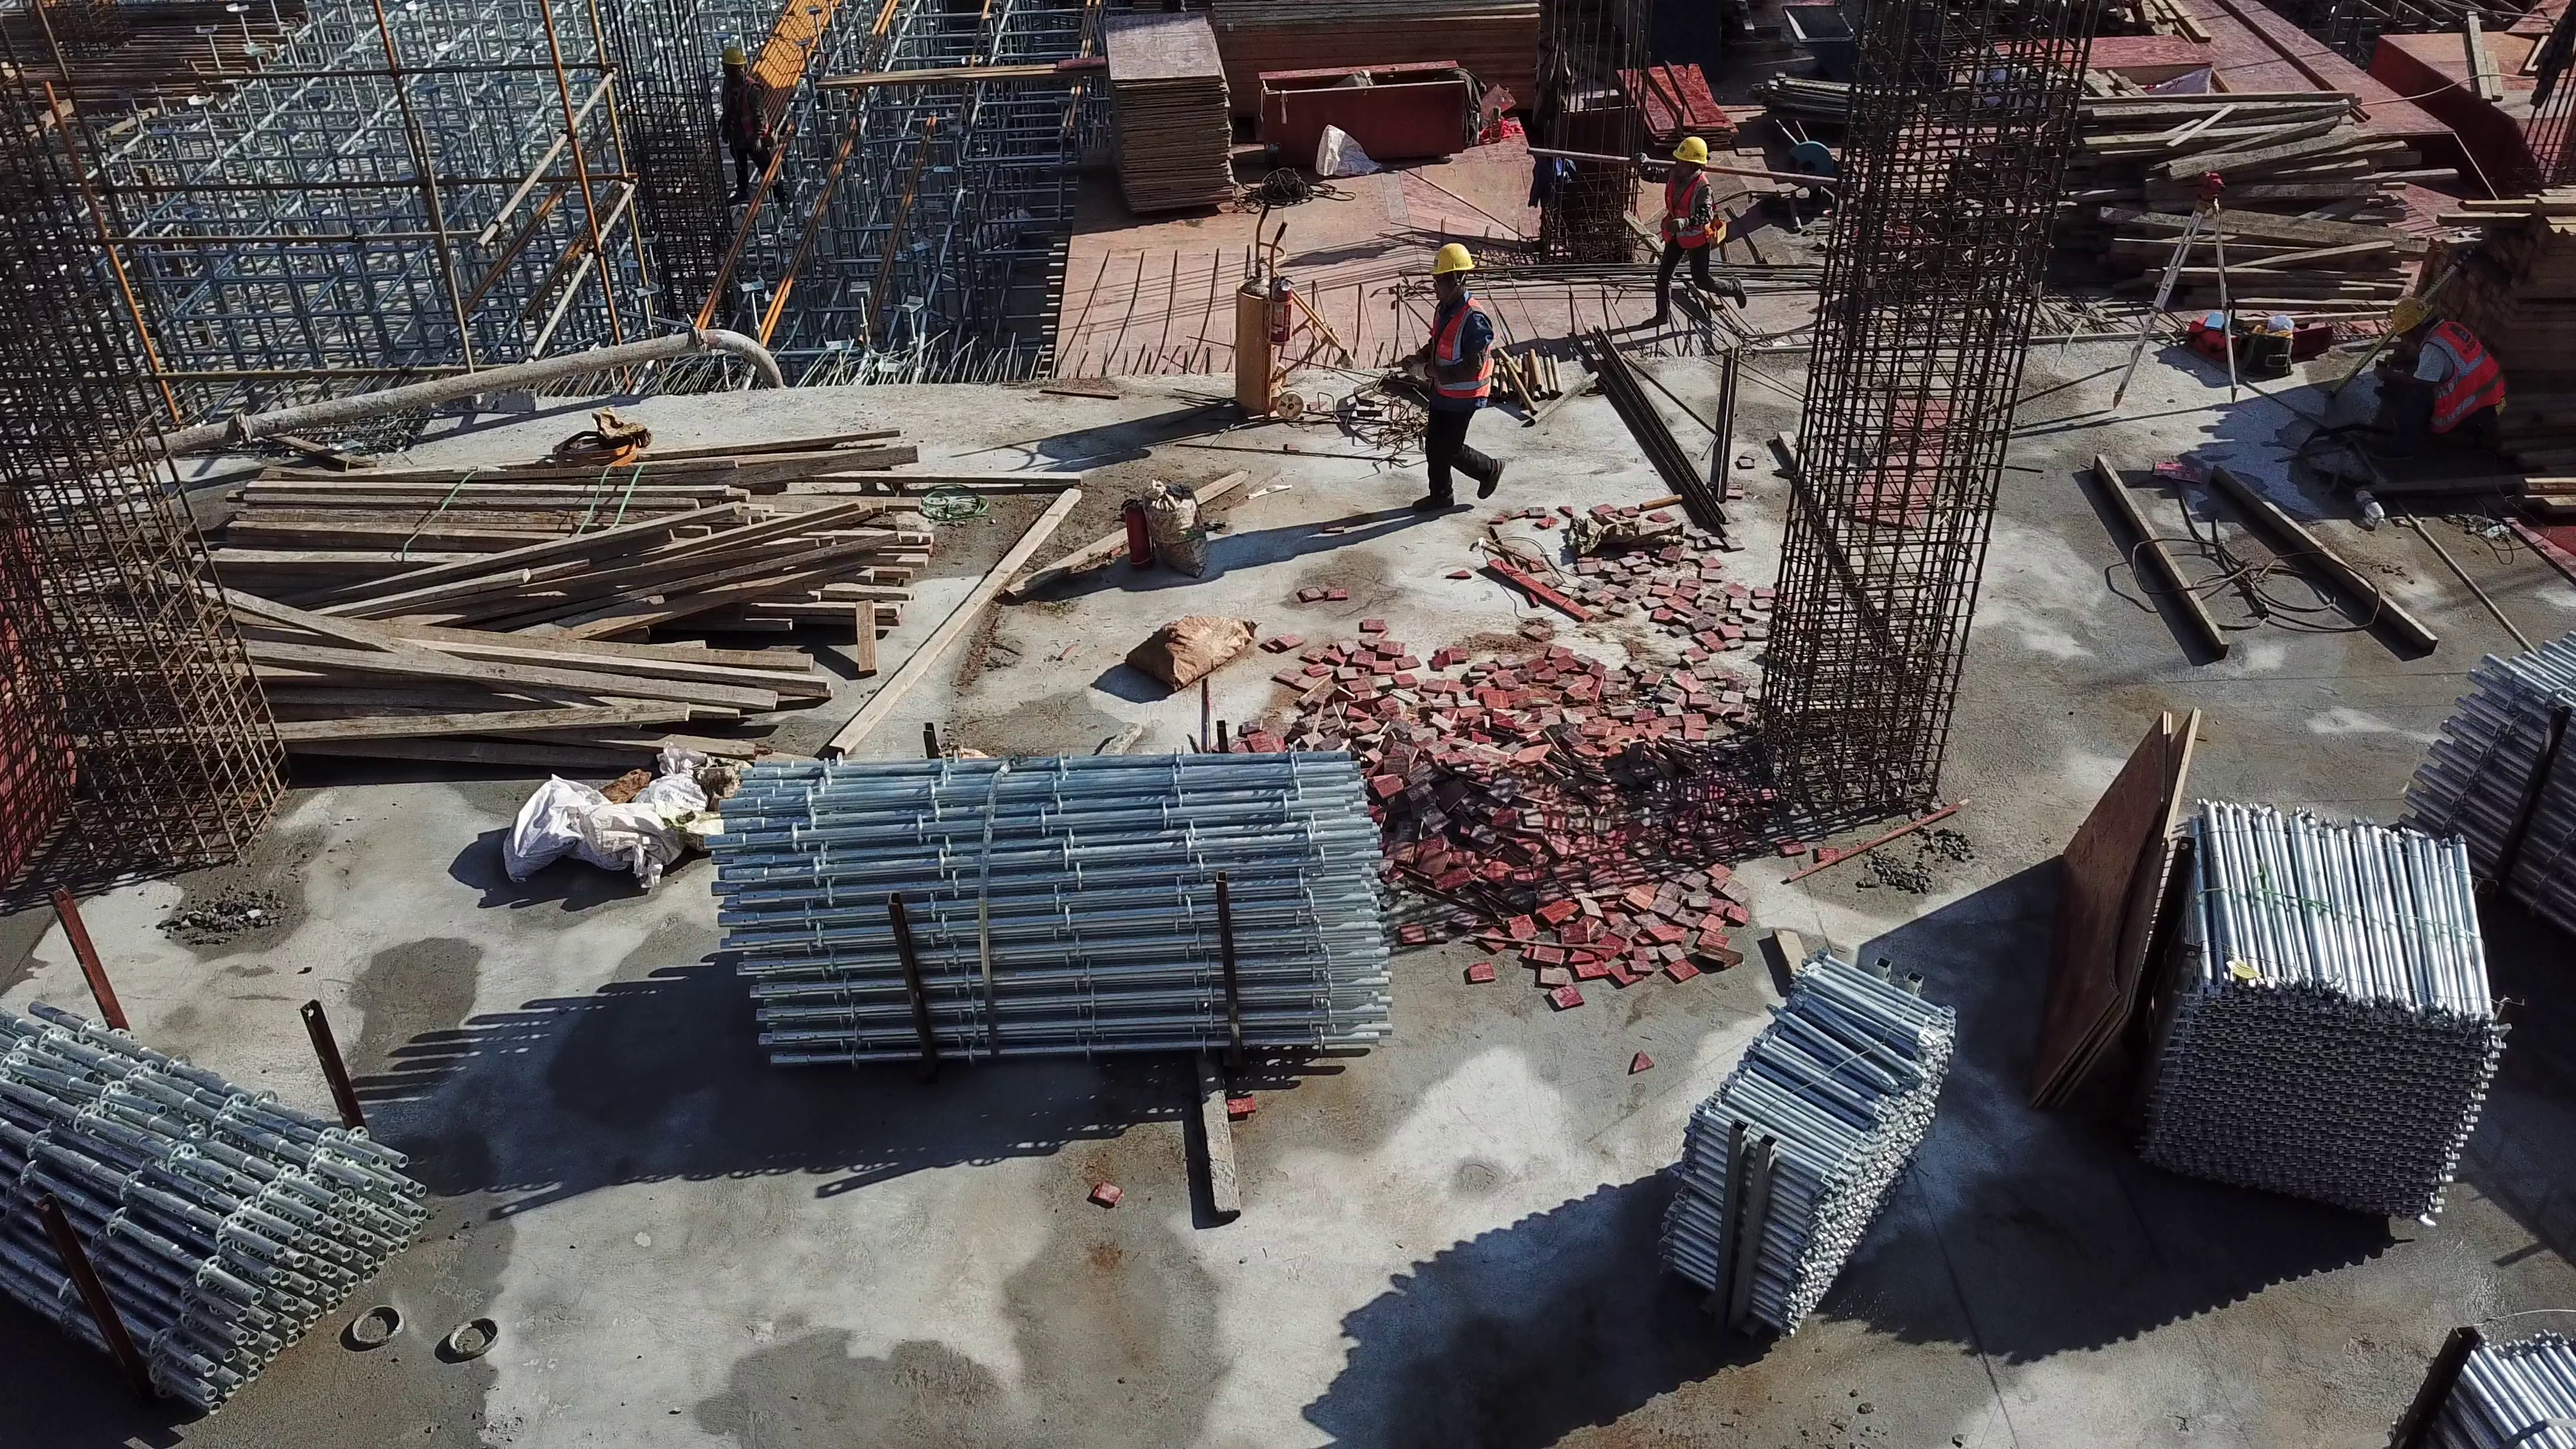board: (1085, 9, 1239, 200)
helmet: (1424, 236, 1479, 277), (2390, 297, 2434, 339), (1672, 136, 1711, 166), (722, 42, 749, 68)
person: (1417, 235, 1509, 514), (1623, 130, 1758, 321), (2384, 286, 2514, 460), (714, 44, 797, 216)
scaffold: (690, 741, 1409, 1073), (2, 986, 431, 1417), (2136, 808, 2510, 1246), (1668, 949, 1962, 1340), (2393, 615, 2576, 947), (2400, 1318, 2576, 1448)
vest: (2412, 321, 2506, 427), (1420, 288, 1495, 411), (1656, 164, 1725, 254)
wood: (164, 414, 957, 778)
